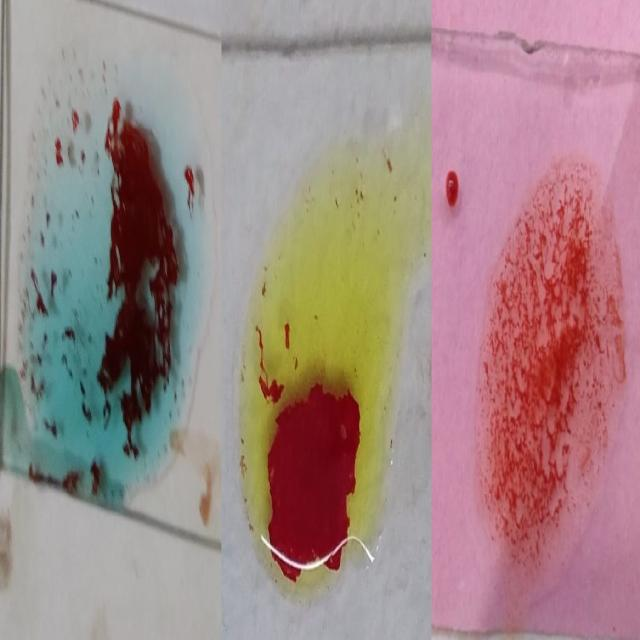A: (31, 39, 196, 483)
B: (241, 137, 398, 587)
D: (479, 172, 622, 587)
